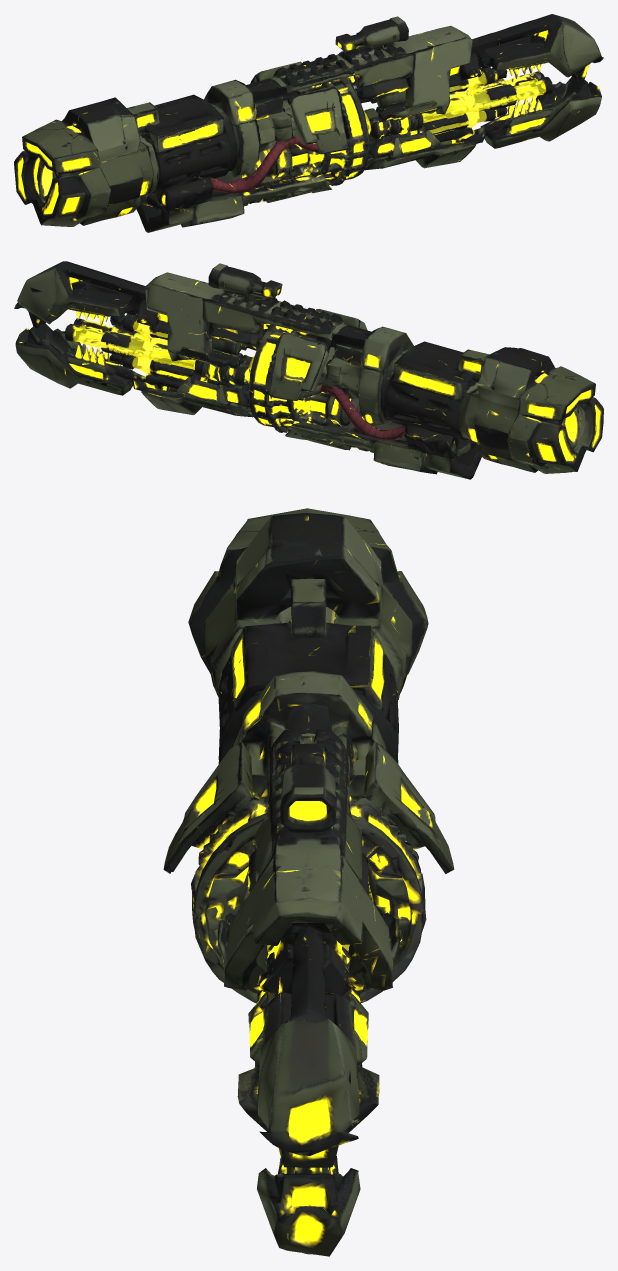
File: machine_gun.glb
The picture shows the model from 3 angles, top to bottom: view 1: azimuth 30°, elevation 25°; view 2: azimuth 150°, elevation 25°; view 3: azimuth 270°, elevation 25°; orthographic projection. The views are drawn at different scales.
Parts seen in each view (by area): view 1: Weapon_Body, Yellow_Forward_Energy_Conduits; view 2: Weapon_Body, Yellow_Forward_Energy_Conduits; view 3: Weapon_Body.
Part boxes in pixels (box(x1,y1,x2,y2)): Weapon_Body: box(14, 14, 603, 232); Yellow_Forward_Energy_Conduits: box(422, 72, 545, 133); Weapon_Body: box(14, 261, 603, 479); Yellow_Forward_Energy_Conduits: box(73, 320, 195, 378); Weapon_Body: box(163, 508, 454, 1256).
Size of the model in its own units: 1.9 by 0.5123 by 0.4269.
Materials: 3 (3 with a texture image).
